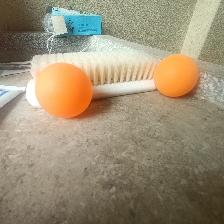YellowBall: (34, 62, 94, 119), (153, 54, 199, 97)
